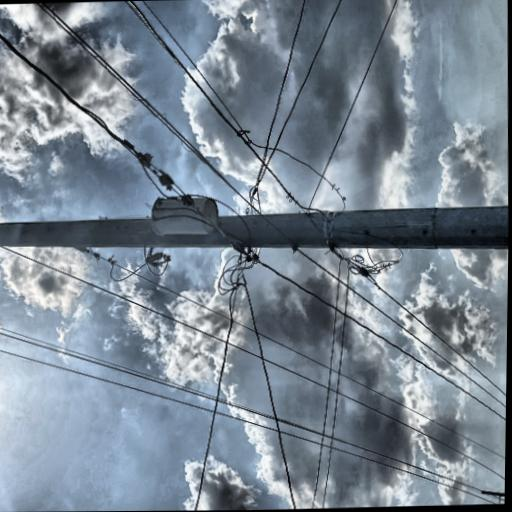pole: (102, 0, 164, 511)
transformer: (133, 279, 171, 356)
